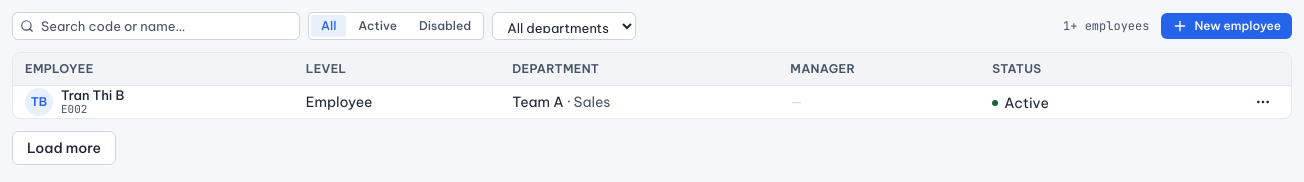
UsersPanel: listing › loads the next page with the cursor and appends it
Expected: the text "Tran Thi B" is shown, [61,86,124,103]
Expected: the text "1+ employees" is shown, [1063,18,1149,34]
Click the button "Load more" at x=64, y=148, box [12,130,116,164]
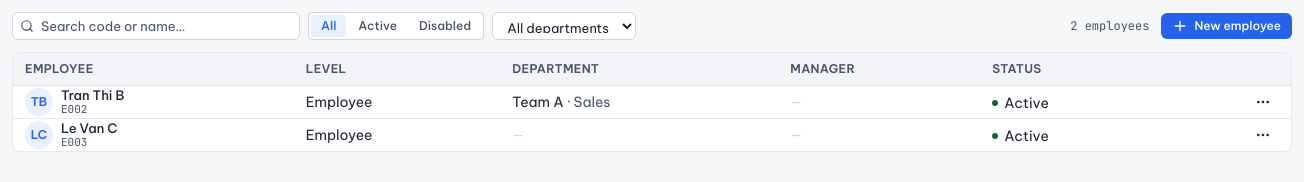
Expected: the text "Tran Thi B" is shown, [61,86,124,103]
Expected: the text "Le Van C" is shown, [61,120,117,136]
Expected: the button "Load more" is gone
